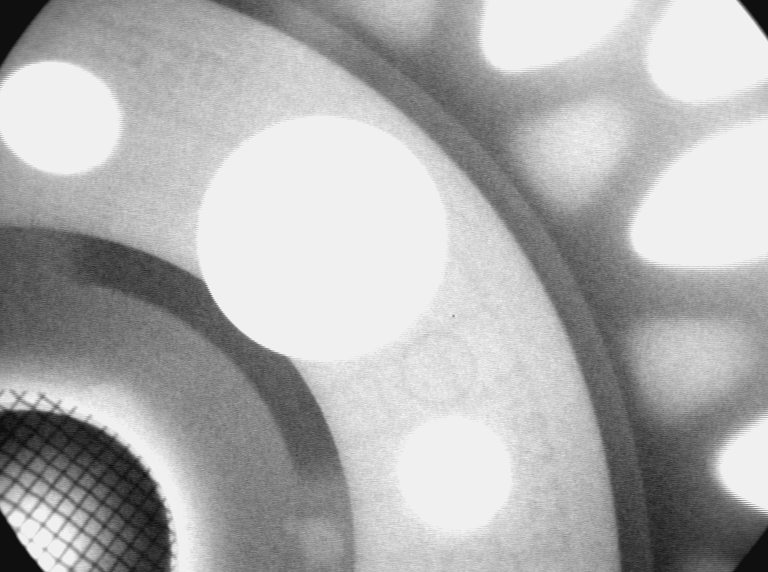defect: (282, 510, 348, 566)
